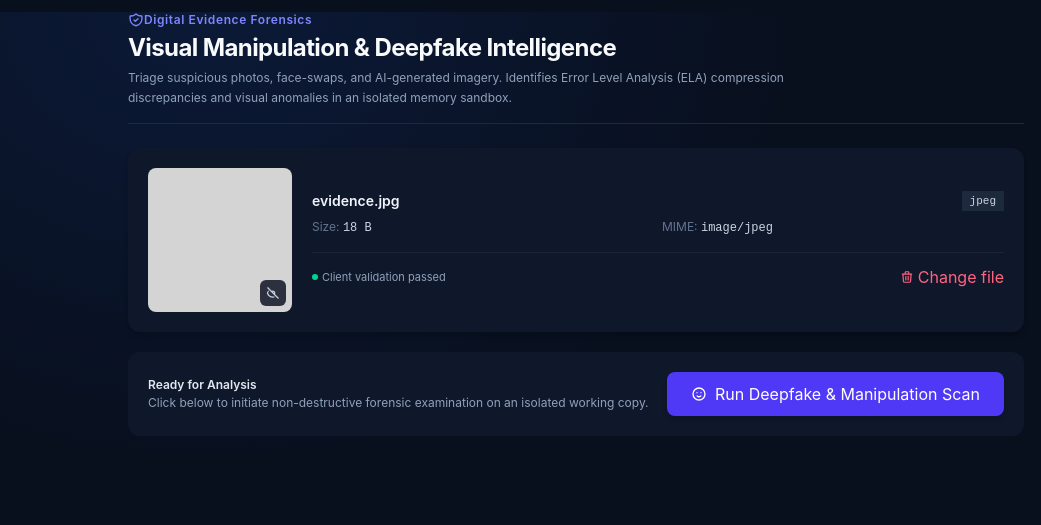
Test: SafeImageAnalysisWorkflow Component › handles 403 unauthorized case permission error gracefully
Earlier steps of the test are not shown.
Click the button "Run Deepfake & Manipulation Scan": click(836, 394) [667,372,1004,416]
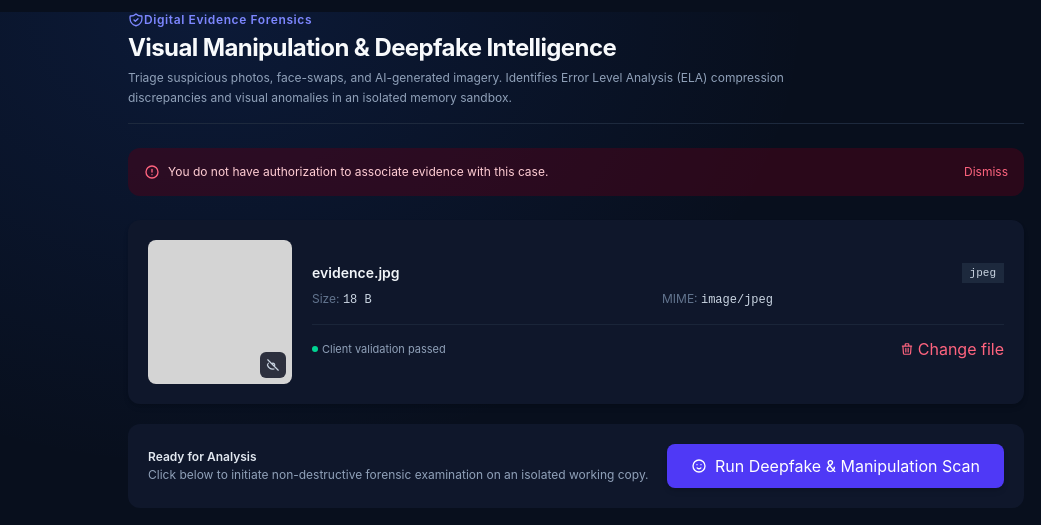
Expected: the message shows "You do not have authorization to associate evidence with this case", [168,164,548,179]
